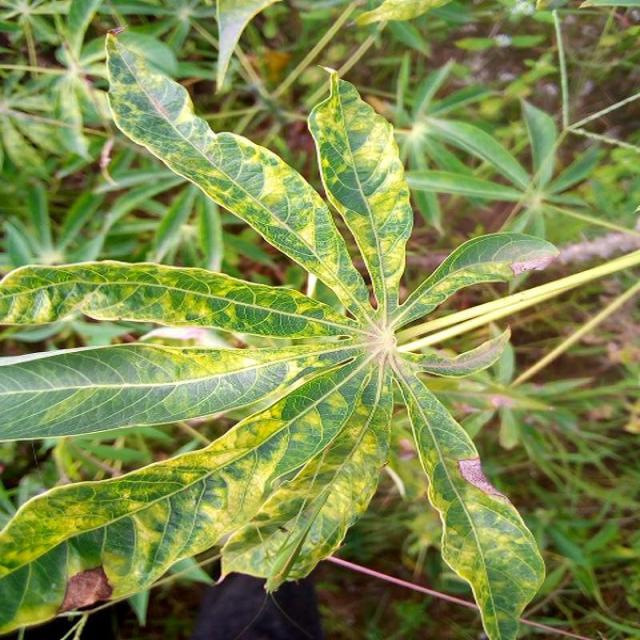cassava leaf: (1, 29, 558, 637)
